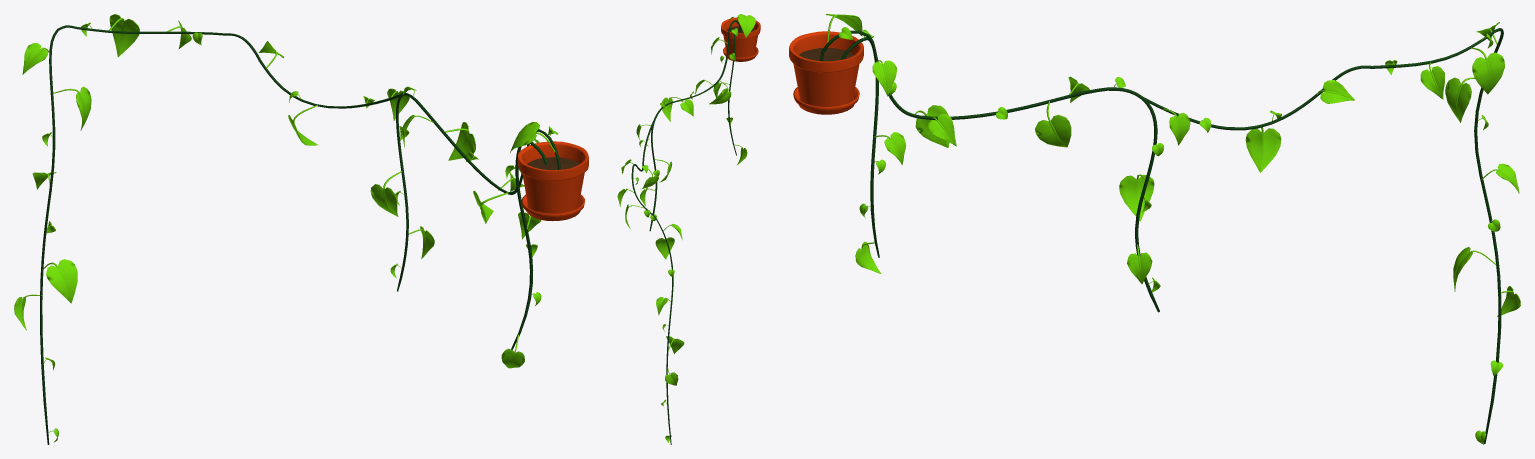
Rendered from PothosPlant_no2_modell_alvin_001.fbx.
3 renders of one model, left to right at view 1: azimuth 30°, elevation 25°; view 2: azimuth 150°, elevation 25°; view 3: azimuth 270°, elevation 25°, orthographic. The views are drawn at different scales.
Visible parts, largest first — view 1: pothos; view 2: pothos; view 3: pothos.
Part boxes in pixels (x1,y1,x2,y2): pothos: [14, 14, 588, 444]; pothos: [617, 14, 760, 444]; pothos: [789, 14, 1520, 444].
Size of the model in its own units: 1717 by 3356 by 4254.
